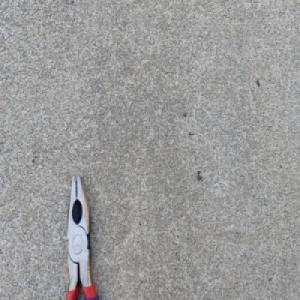Pliers: (64, 173, 99, 300)
